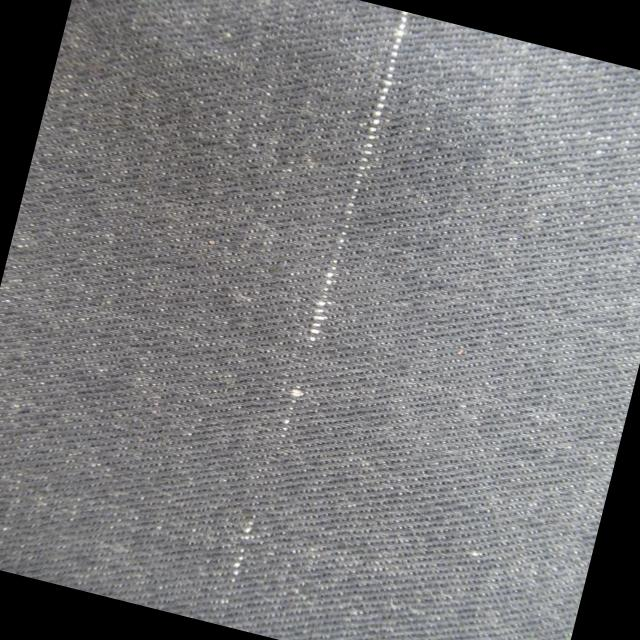Warp_Weft: (223, 2, 411, 595)
